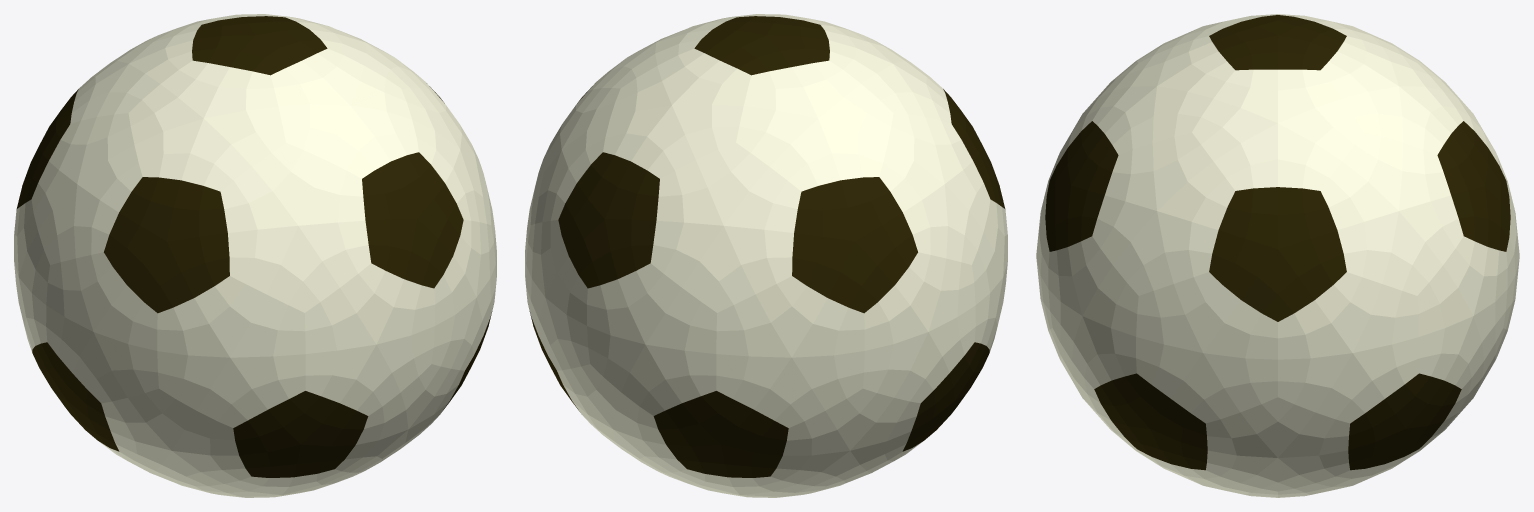
Rendered from Football Ball.fbx.
3 views of the same model, side by side, from view 1: azimuth 30°, elevation 25°; view 2: azimuth 150°, elevation 25°; view 3: azimuth 270°, elevation 25° (orthographic).
Parts seen in each view (by area): view 1: Football Ball; view 2: Football Ball; view 3: Football Ball.
Boxes of the visible parts, box(x1,y1,x2,y2) form: Football Ball: box(14, 14, 496, 497); Football Ball: box(525, 14, 1007, 497); Football Ball: box(1036, 14, 1519, 497).
Bounding box in the file's own units: 92.37 × 93.03 × 92.49.
